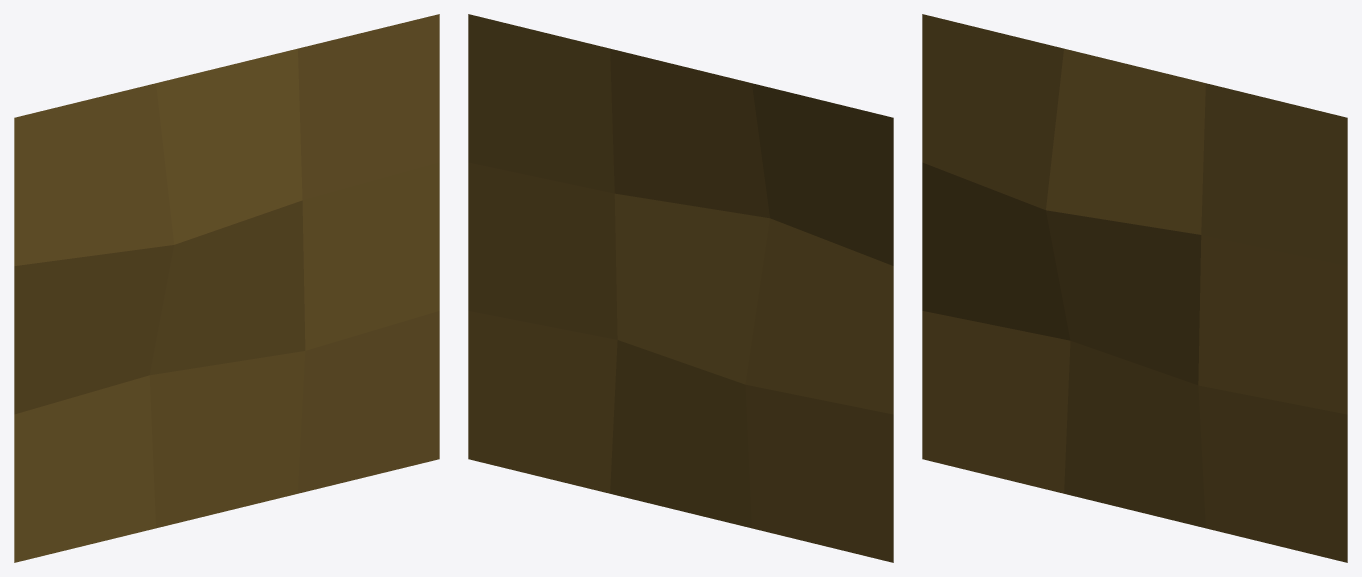
The model's file is Platformer_M.fbx.
3 renders of one model, left to right at view 1: azimuth 30°, elevation 25°; view 2: azimuth 150°, elevation 25°; view 3: azimuth 330°, elevation 25°, orthographic.
Parts seen in each view (by area): view 1: Platformer_M; view 2: Platformer_M; view 3: Platformer_M.
Boxes of the visible parts, x1,y1,x2,y2 form: Platformer_M: [14, 14, 439, 562]; Platformer_M: [468, 14, 893, 562]; Platformer_M: [922, 14, 1347, 562].
Bounding box in the file's own units: 200 × 200 × 20.01.
